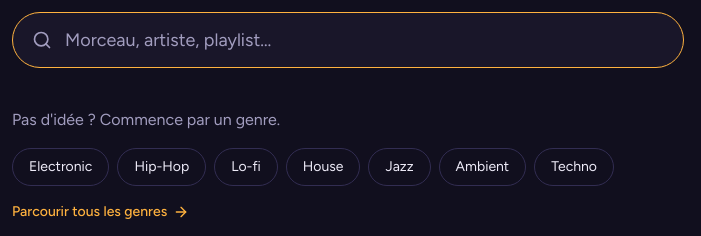
Test case: SearchView › propose des genres quand le champ est vide et les reporte dans le champ
The width and height of the screenshot is (701, 236).
Click the button "House".
click(323, 167)  # box [286,148,360,186]
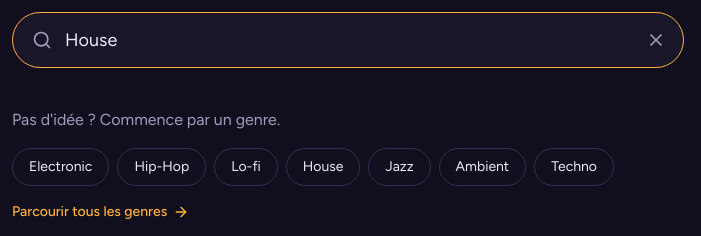
Check: the search field holds "House", box [12,12,684,68]
